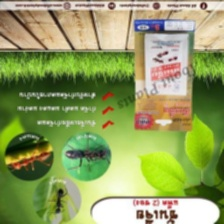book: (131, 17, 197, 133)
insecticide: (141, 28, 191, 97)
